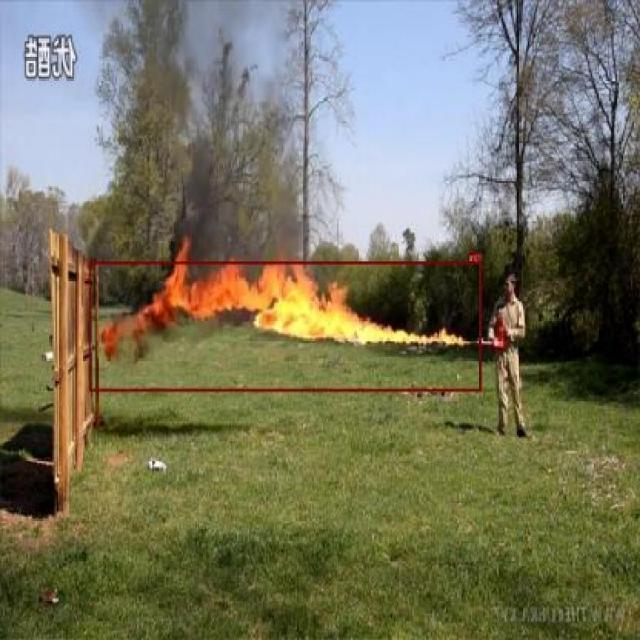Fire: (89, 260, 482, 392)
